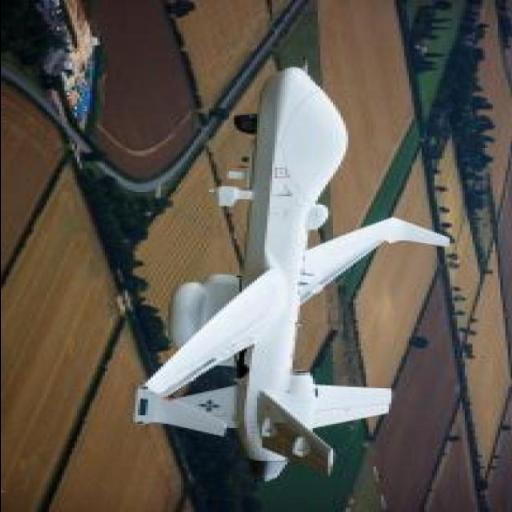uav: (118, 60, 456, 484)
